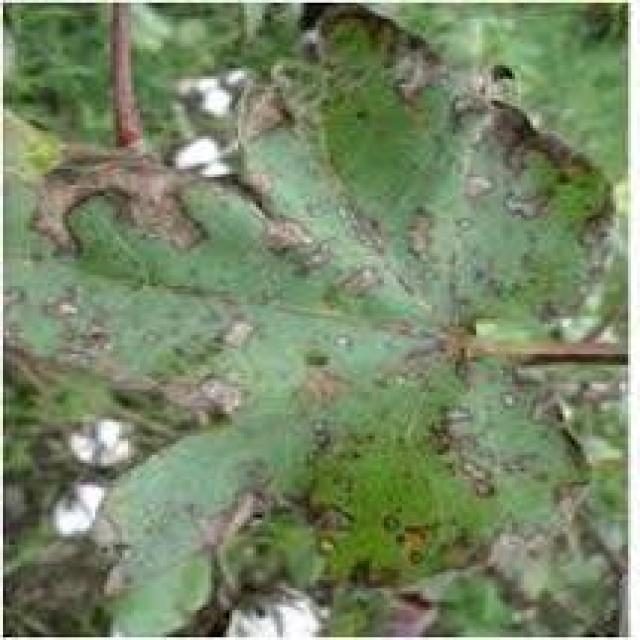Bacterial Blight: (40, 184, 478, 472)
